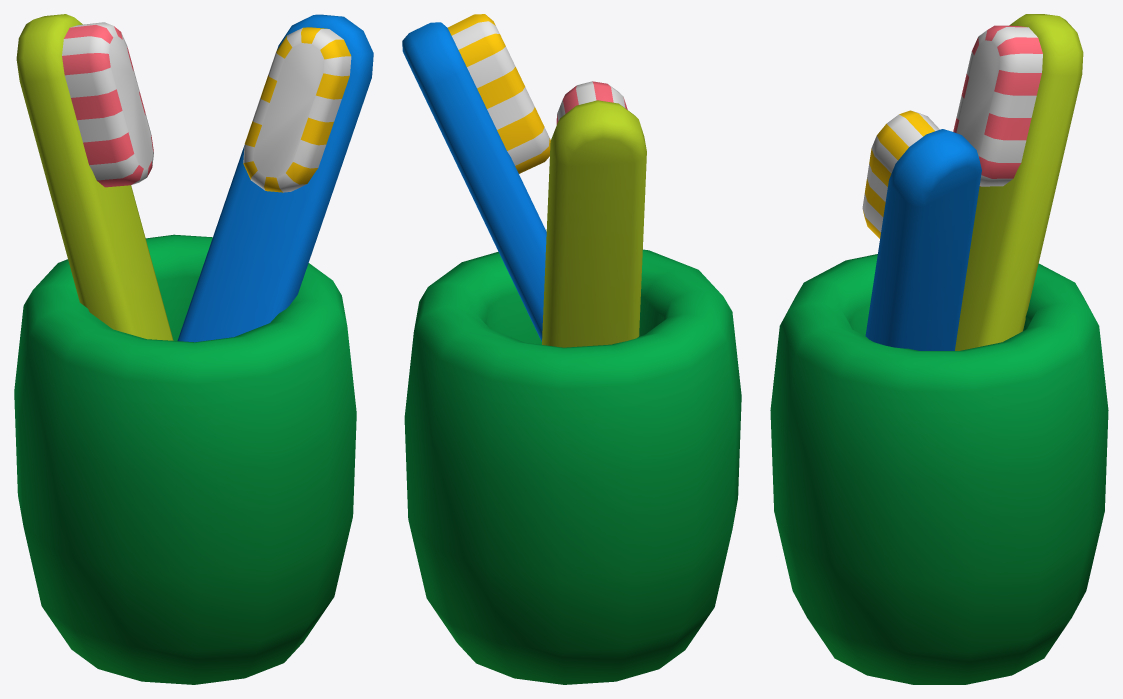
File: Toothbrush_002.fbx
3 views of the same model, side by side, from view 1: azimuth 30°, elevation 25°; view 2: azimuth 150°, elevation 25°; view 3: azimuth 270°, elevation 25° (orthographic). The views are drawn at different scales.
Parts seen in each view (by area): view 1: Toothbrush_002; view 2: Toothbrush_002; view 3: Toothbrush_002.
Part boxes in pixels (x1,y1,x2,y2): Toothbrush_002: [14, 14, 373, 684]; Toothbrush_002: [402, 14, 741, 684]; Toothbrush_002: [770, 14, 1108, 684].
Bounding box in the file's own units: 11.92 × 11.03 × 21.02.
